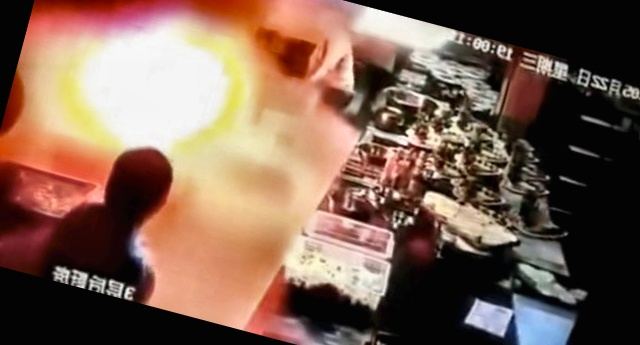fire: (34, 0, 266, 175)
